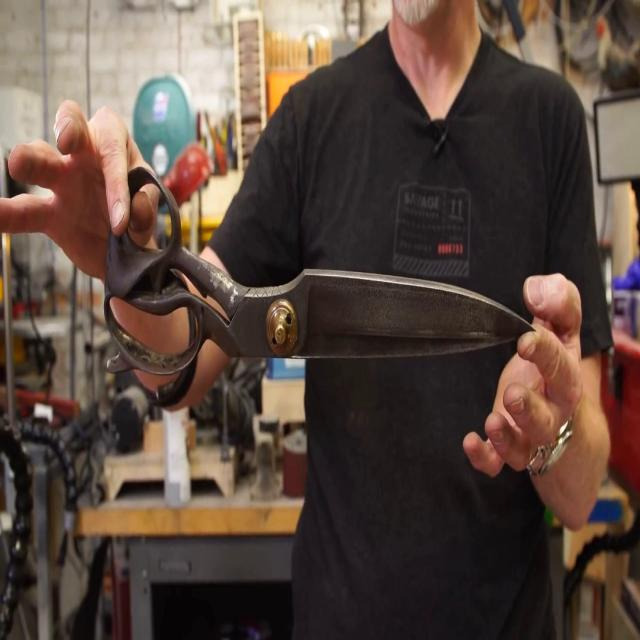scissor: (103, 166, 536, 374)
